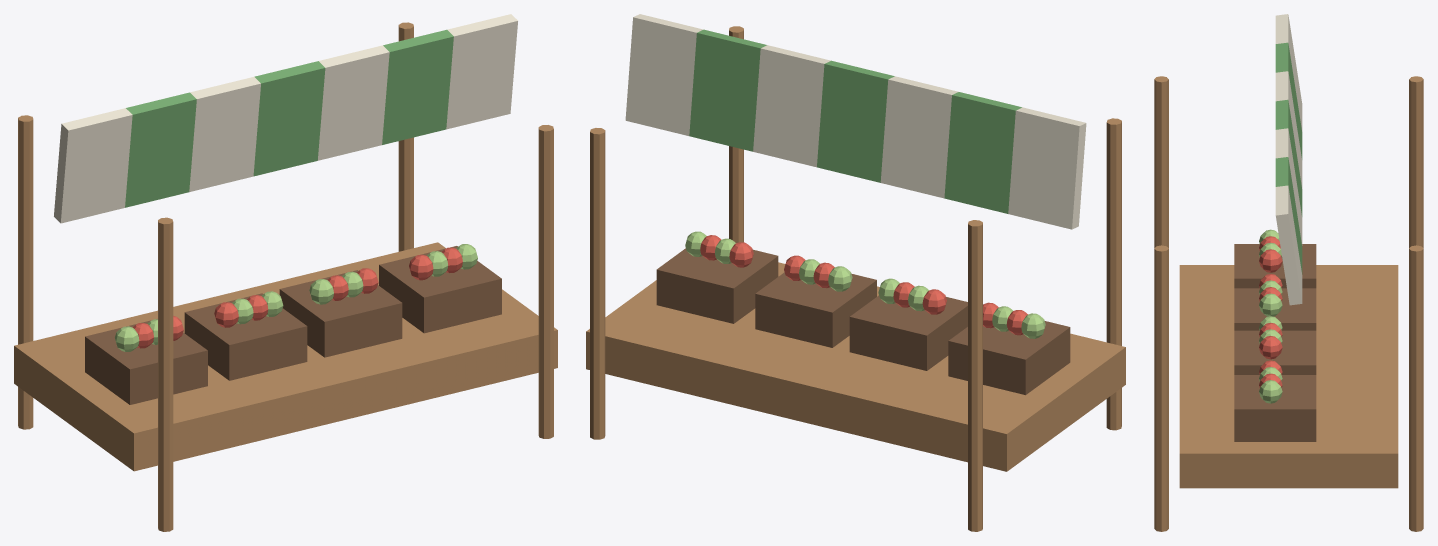
Rendered from market-stall-BRYBgeUE.glb.
3 renders of one model, left to right at view 1: azimuth 30°, elevation 25°; view 2: azimuth 150°, elevation 25°; view 3: azimuth 270°, elevation 25°, orthographic. The views are drawn at different scales.
Visible parts, largest first — view 1: Stall_Table, Stall_Roof_stripe_0, Stall_Roof_stripe_5, Stall_Roof_stripe_2, Stall_Roof_stripe_3, Stall_Roof_stripe_4, Stall_Roof_stripe_1, Stall_Roof_stripe_6, Stall_Crate_1, Stall_Crate_3, Stall_Crate_2, Stall_Crate_0 (+4 smaller); view 2: Stall_Table, Stall_Roof_stripe_0, Stall_Roof_stripe_5, Stall_Roof_stripe_4, Stall_Roof_stripe_1, Stall_Roof_stripe_6, Stall_Roof_stripe_2, Stall_Roof_stripe_3, Stall_Crate_3, Stall_Crate_1, Stall_Crate_2, Stall_Crate_0 (+4 smaller); view 3: Stall_Table, Stall_Crate_3, Stall_Post_2.2_-1.4, Stall_Post_2.2_1.4, Stall_Crate_2, Stall_Post_-2.2_-1.4, Stall_Post_-2.2_1.4, Stall_Crate_1, Stall_Crate_0, Stall_Roof_stripe_6, Stall_Roof_stripe_1, Stall_Roof_stripe_2 (+8 smaller).
Boxes of the visible parts, bbox=[...] form: Stall_Table: bbox=[14, 242, 557, 471]; Stall_Roof_stripe_0: bbox=[54, 108, 132, 223]; Stall_Roof_stripe_5: bbox=[382, 29, 453, 144]; Stall_Roof_stripe_2: bbox=[189, 77, 260, 191]; Stall_Roof_stripe_3: bbox=[253, 61, 325, 176]; Stall_Roof_stripe_4: bbox=[317, 45, 389, 160]; Stall_Roof_stripe_1: bbox=[125, 92, 196, 207]; Stall_Roof_stripe_6: bbox=[446, 14, 517, 129]; Stall_Crate_1: bbox=[184, 293, 307, 380]; Stall_Crate_3: bbox=[379, 246, 501, 333]; Stall_Crate_2: bbox=[279, 270, 402, 357]; Stall_Crate_0: bbox=[85, 319, 207, 404]; Stall_Table: bbox=[586, 262, 1125, 471]; Stall_Roof_stripe_0: bbox=[1008, 107, 1086, 229]; Stall_Roof_stripe_5: bbox=[689, 29, 766, 151]; Stall_Roof_stripe_4: bbox=[753, 45, 830, 167]; Stall_Roof_stripe_1: bbox=[944, 92, 1021, 213]; Stall_Roof_stripe_6: bbox=[625, 14, 703, 135]; Stall_Roof_stripe_2: bbox=[880, 76, 958, 198]; Stall_Roof_stripe_3: bbox=[817, 60, 894, 182]; Stall_Crate_3: bbox=[656, 248, 778, 323]; Stall_Crate_1: bbox=[849, 295, 967, 370]; Stall_Crate_2: bbox=[755, 272, 876, 347]; Stall_Crate_0: bbox=[948, 321, 1070, 395]; Stall_Table: bbox=[1179, 265, 1398, 488]; Stall_Crate_3: bbox=[1234, 375, 1316, 441]; Stall_Post_2.2_-1.4: bbox=[1154, 245, 1168, 531]; Stall_Post_2.2_1.4: bbox=[1409, 245, 1423, 531]; Stall_Crate_2: bbox=[1234, 330, 1316, 374]; Stall_Post_-2.2_-1.4: bbox=[1154, 76, 1168, 247]; Stall_Post_-2.2_1.4: bbox=[1409, 76, 1423, 247]; Stall_Crate_1: bbox=[1234, 288, 1316, 330]; Stall_Crate_0: bbox=[1234, 244, 1316, 288]; Stall_Roof_stripe_6: bbox=[1275, 185, 1302, 305]; Stall_Roof_stripe_1: bbox=[1275, 42, 1302, 159]; Stall_Roof_stripe_2: bbox=[1275, 71, 1302, 188].
Size of the model in its own units: 5.2 by 4 by 2.96.
